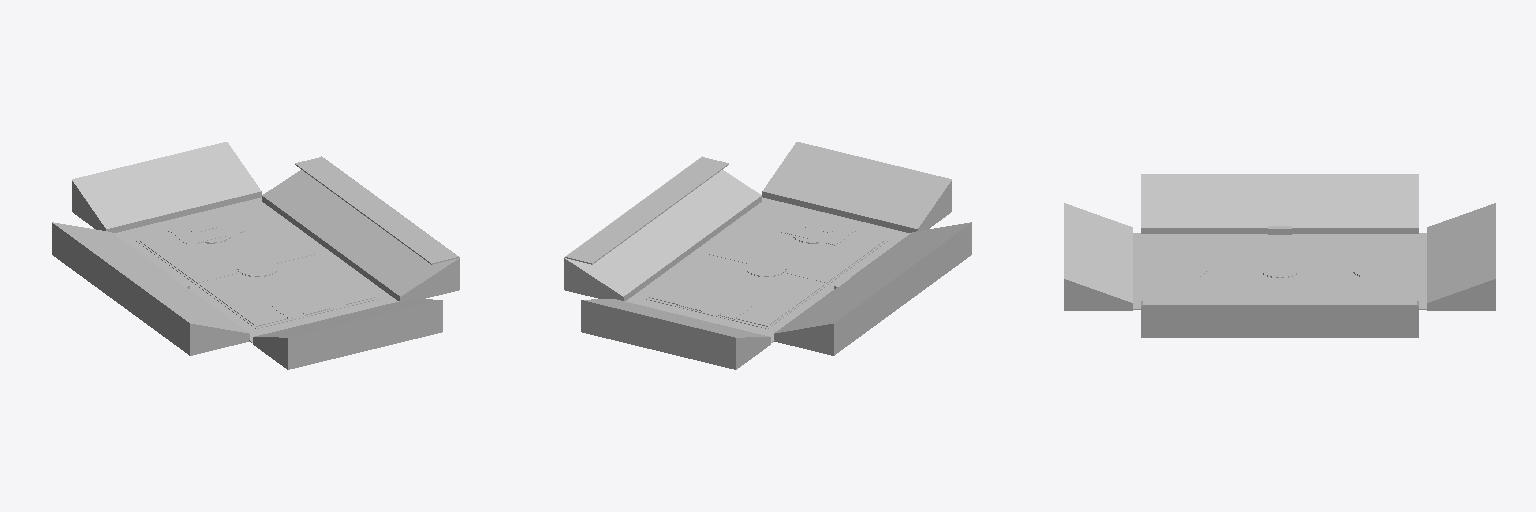
File: arena.obj
3 renders of one model, left to right at view 1: azimuth 30°, elevation 25°; view 2: azimuth 150°, elevation 25°; view 3: azimuth 270°, elevation 25°, orthographic.
Visible parts, largest first — view 1: Cube.007_Cube.013, Cube.002_Cube.007, Cube.001_Cube.004, Cube.000_Cube.006, Cube.003_Cube.008, Cube.005_Cube.011, Cube.004_Cube.010, Cube.011_Cube.017, Cube.017_Cube.005, Cube.006_Cube.012; view 2: Cube.007_Cube.013, Cube.003_Cube.008, Cube.001_Cube.004, Cube.000_Cube.006, Cube.002_Cube.007, Cube.005_Cube.011, Cube.004_Cube.010, Cube.017_Cube.005, Cube.011_Cube.017, Cube.006_Cube.012; view 3: Cube.001_Cube.004, Cube.007_Cube.013, Cube.000_Cube.006, Cube.002_Cube.007, Cube.003_Cube.008, Cube.005_Cube.011, Cube.004_Cube.010, Cube.011_Cube.017, Cube.017_Cube.005.
Boxes of the visible parts, x1,y1,x2,y2 form: Cube.007_Cube.013: [140, 212, 374, 326]; Cube.002_Cube.007: [72, 142, 261, 232]; Cube.001_Cube.004: [52, 222, 249, 355]; Cube.000_Cube.006: [262, 156, 459, 300]; Cube.003_Cube.008: [253, 299, 442, 369]; Cube.005_Cube.011: [113, 197, 398, 345]; Cube.004_Cube.010: [295, 157, 458, 264]; Cube.011_Cube.017: [170, 217, 244, 244]; Cube.017_Cube.005: [271, 291, 343, 318]; Cube.006_Cube.012: [136, 211, 378, 328]; Cube.007_Cube.013: [649, 212, 883, 326]; Cube.003_Cube.008: [762, 142, 951, 232]; Cube.001_Cube.004: [774, 222, 971, 355]; Cube.000_Cube.006: [564, 156, 761, 300]; Cube.002_Cube.007: [581, 299, 770, 369]; Cube.005_Cube.011: [625, 197, 910, 345]; Cube.004_Cube.010: [565, 157, 728, 264]; Cube.017_Cube.005: [779, 218, 853, 244]; Cube.011_Cube.017: [679, 291, 752, 318]; Cube.006_Cube.012: [645, 211, 887, 328]; Cube.001_Cube.004: [1141, 174, 1418, 233]; Cube.007_Cube.013: [1164, 241, 1395, 291]; Cube.000_Cube.006: [1141, 301, 1418, 337]; Cube.002_Cube.007: [1427, 203, 1495, 310]; Cube.003_Cube.008: [1064, 203, 1132, 310]; Cube.005_Cube.011: [1127, 233, 1432, 309]; Cube.004_Cube.010: [1143, 292, 1416, 305]; Cube.011_Cube.017: [1362, 256, 1399, 282]; Cube.017_Cube.005: [1160, 256, 1197, 282].
Size of the model in its own units: 408 by 47.39 by 566.